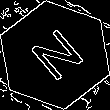N_SE: (22, 23, 88, 87)
